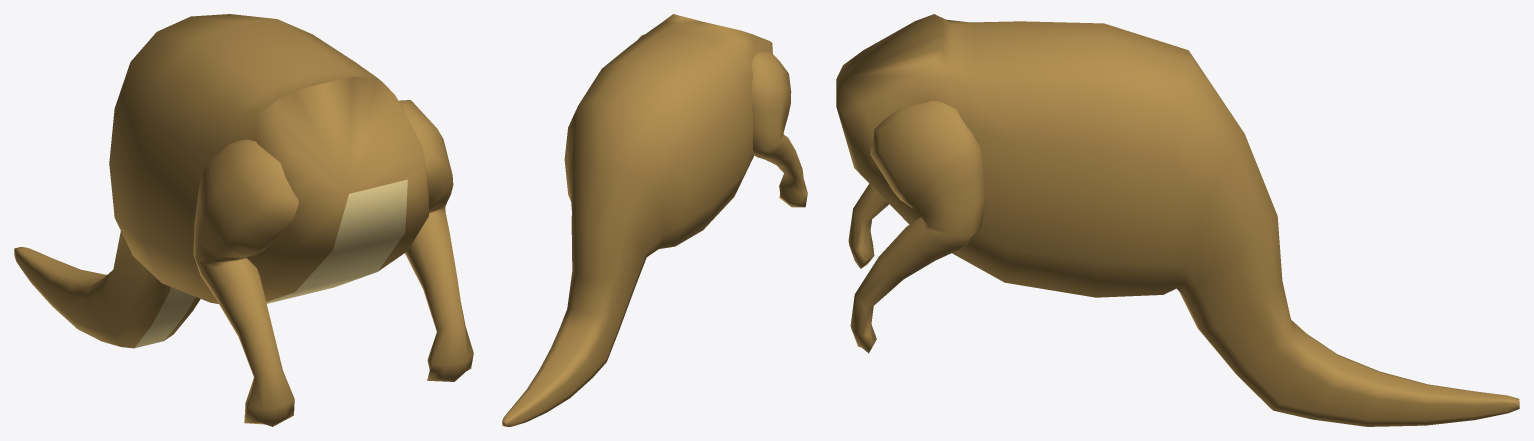
Rendered from KangaBody.fbx.
The picture shows the model from 3 angles, left to right: view 1: azimuth 30°, elevation 25°; view 2: azimuth 150°, elevation 25°; view 3: azimuth 270°, elevation 25°; orthographic projection. The views are drawn at different scales.
Visible parts, largest first — view 1: pCube32; view 2: pCube32; view 3: pCube32.
Boxes of the visible parts, bbox=[...] form: pCube32: bbox=[14, 14, 473, 426]; pCube32: bbox=[502, 14, 807, 426]; pCube32: bbox=[836, 14, 1519, 426].
Bounding box in the file's own units: 2.94 × 4.71 × 7.55.
